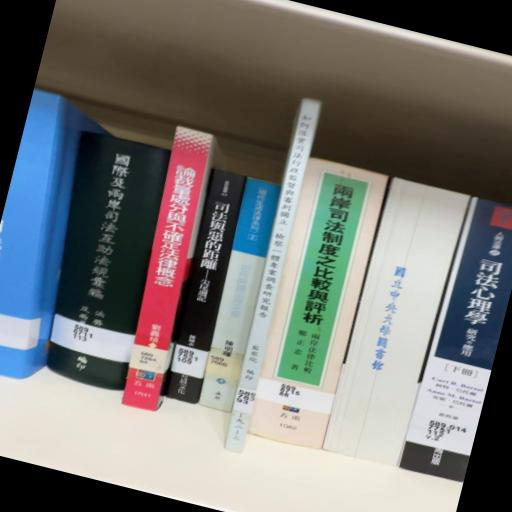backward: (325, 178, 471, 467)
book: (25, 128, 185, 395), (107, 130, 223, 418), (154, 173, 255, 420)
